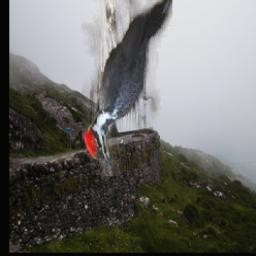Woodpecker: (82, 0, 172, 177)
